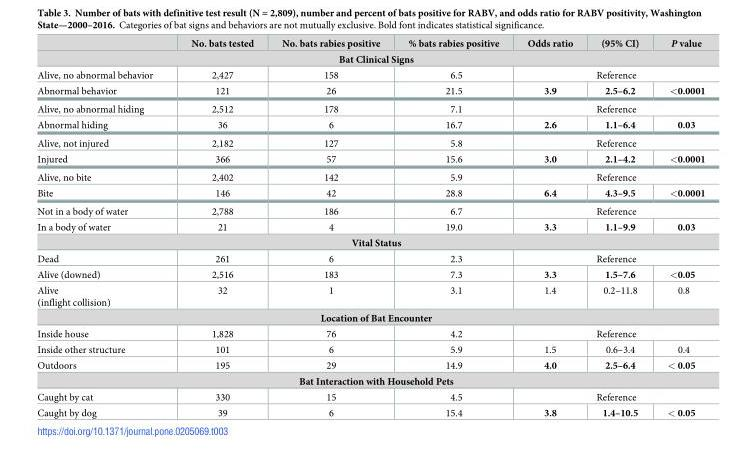table: (36, 36, 704, 417)
table column: (36, 36, 171, 417), (267, 36, 393, 417), (393, 36, 512, 417), (171, 36, 267, 417), (512, 36, 586, 417), (586, 36, 652, 417), (652, 36, 704, 417)
table column header: (36, 36, 704, 51)
table projected row header: (36, 234, 704, 250), (36, 51, 704, 66), (36, 310, 704, 325), (36, 373, 704, 388)
table row: (36, 282, 704, 310), (36, 150, 704, 168), (36, 82, 704, 99), (36, 99, 704, 116), (36, 116, 704, 133), (36, 133, 704, 150), (36, 168, 704, 185), (36, 185, 704, 202), (36, 202, 704, 219), (36, 66, 704, 82), (36, 234, 704, 250), (36, 250, 704, 266), (36, 266, 704, 282), (36, 325, 704, 341), (36, 341, 704, 357), (36, 357, 704, 373), (36, 388, 704, 404), (36, 36, 704, 51), (36, 51, 704, 66), (36, 219, 704, 234), (36, 310, 704, 325), (36, 373, 704, 388), (36, 404, 704, 417)
table spanning cell: (512, 99, 704, 116), (512, 133, 704, 150), (512, 168, 704, 185), (512, 202, 704, 219), (512, 66, 704, 82), (512, 250, 704, 266), (512, 325, 704, 341), (512, 388, 704, 404)
